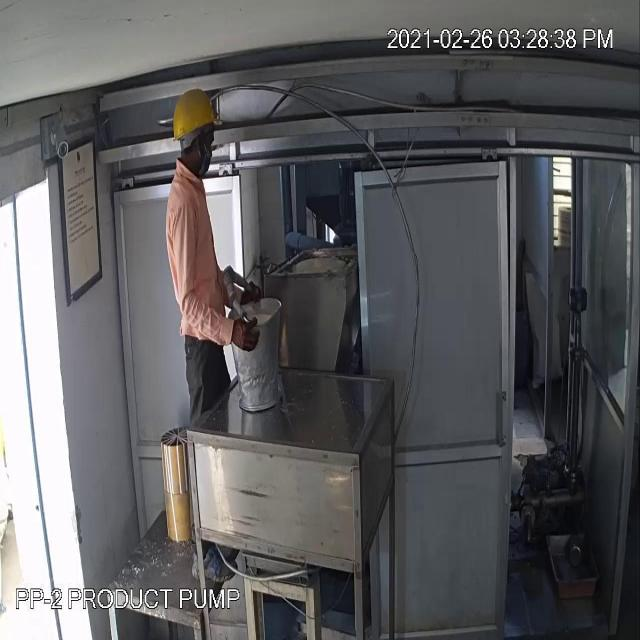hat: (166, 84, 227, 149)
